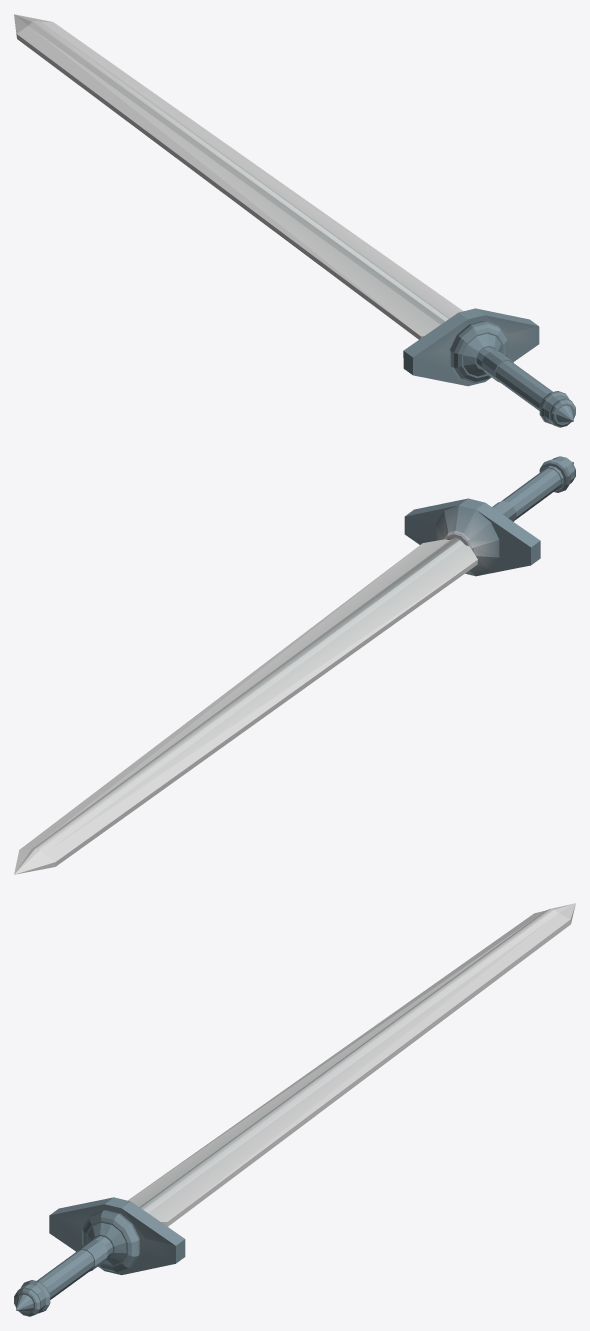
File: Sword.fbx
3 views of the same model, one above another, from view 1: azimuth 30°, elevation 25°; view 2: azimuth 150°, elevation 25°; view 3: azimuth 330°, elevation 25° (orthographic).
Visible parts, largest first — view 1: Sword; view 2: Sword; view 3: Sword.
Boxes of the visible parts, x1,y1,x2,y2 form: Sword: [14, 14, 575, 427]; Sword: [14, 456, 575, 874]; Sword: [14, 903, 575, 1316].
Bounding box in the file's own units: 28.68 × 14.51 × 220.
